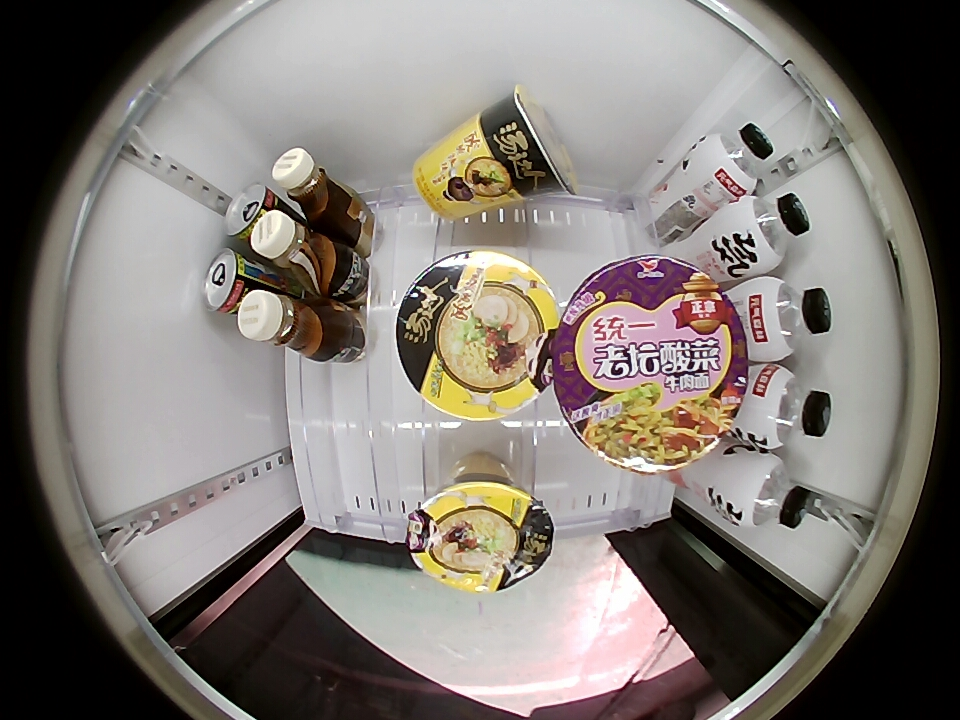kafei: (253, 210, 343, 296), (238, 290, 338, 362), (271, 148, 350, 227)
laotansuancai: (551, 255, 749, 475)
tangdaren2: (396, 249, 561, 422), (406, 474, 555, 592), (468, 88, 575, 203)
yezhi: (203, 249, 258, 317), (223, 183, 280, 243)
yuanqishui: (742, 363, 833, 450), (744, 276, 833, 361), (726, 192, 812, 273), (725, 452, 813, 530), (696, 123, 776, 198)
